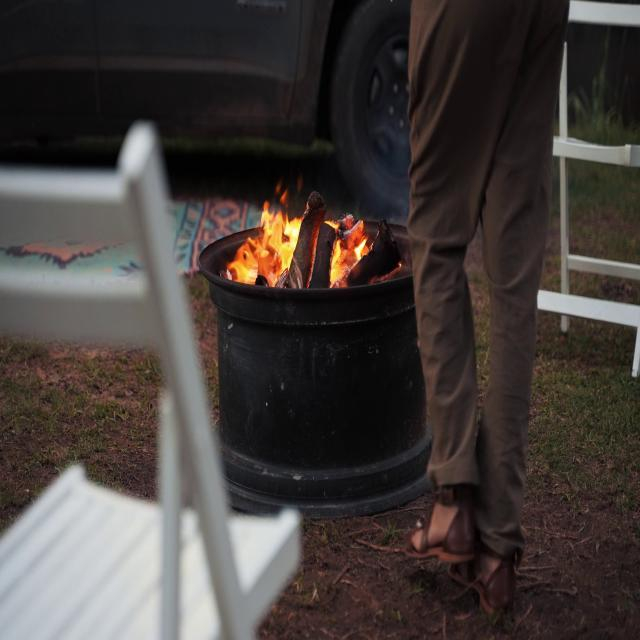Fire: (230, 182, 380, 288)
